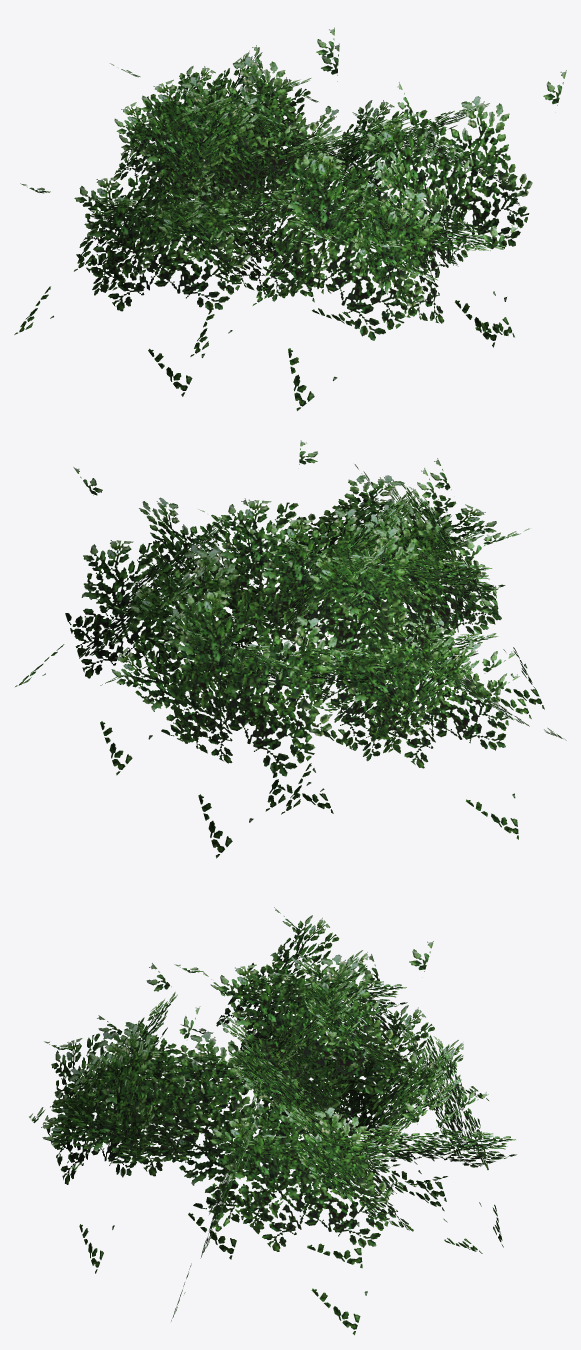
The model's file is underbrush-1.glb.
3 renders of one model, top to bottom at view 1: azimuth 30°, elevation 25°; view 2: azimuth 150°, elevation 25°; view 3: azimuth 270°, elevation 25°, orthographic. The views are drawn at different scales.
Visible parts, largest first — view 1: underbrush-1; view 2: underbrush-1; view 3: underbrush-1.
Boxes of the visible parts, left/top/right/bottom form: underbrush-1: left=14, top=27, right=566, bottom=410; underbrush-1: left=15, top=440, right=566, bottom=858; underbrush-1: left=29, top=907, right=516, bottom=1335.
Bounding box in the file's own units: 8.18 × 4.34 × 7.82.
Materials: 1 (1 with a texture image).
